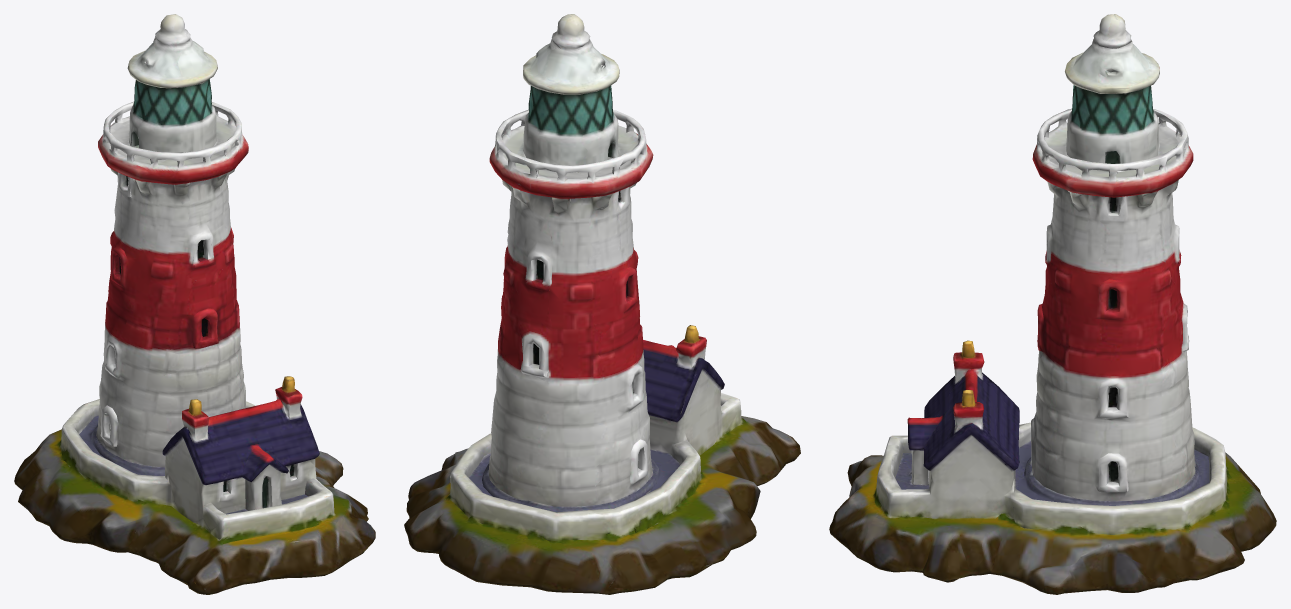
File: lighthouse_b.glb
3 views of the same model, side by side, from view 1: azimuth 30°, elevation 25°; view 2: azimuth 150°, elevation 25°; view 3: azimuth 270°, elevation 25° (orthographic). The views are drawn at different scales.
Visible parts, largest first — view 1: world; view 2: world; view 3: world.
Part boxes in pixels (x1,y1,x2,y2): world: (14,14,375,594); world: (404,14,800,594); world: (829,14,1276,594).
Size of the model in its own units: 0.6333 by 1 by 0.8012.
Materials: 1 (1 with a texture image).
